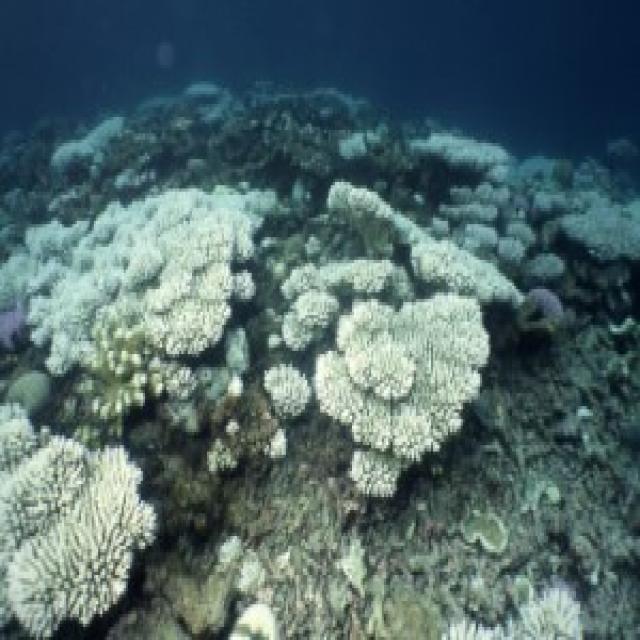Bleached: (1, 187, 278, 375), (1, 408, 161, 640), (317, 294, 489, 507), (326, 181, 524, 295), (501, 163, 640, 248), (75, 359, 246, 412), (444, 588, 590, 640), (219, 537, 281, 640), (51, 106, 129, 176), (246, 78, 375, 113), (418, 121, 508, 166), (268, 311, 321, 354), (517, 286, 567, 330), (274, 365, 312, 421), (186, 81, 236, 122), (340, 537, 371, 597), (338, 122, 384, 159), (295, 289, 339, 323), (279, 265, 326, 296), (111, 167, 157, 192), (527, 255, 566, 281)
